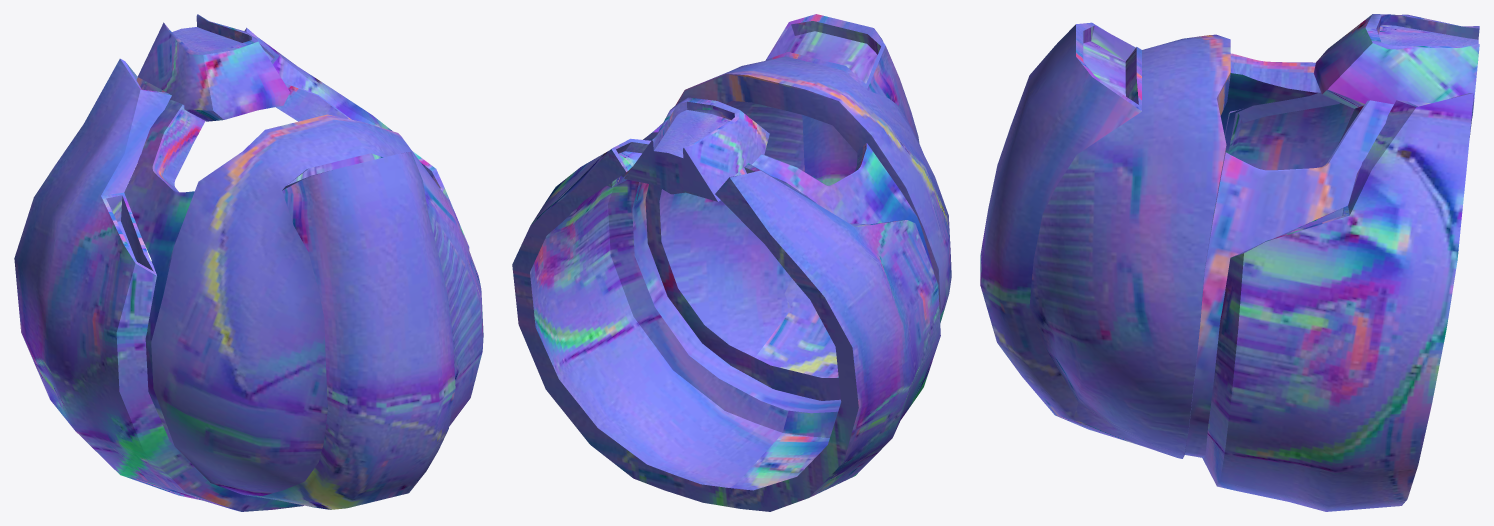
File: Headwear64.glb
3 renders of one model, left to right at view 1: azimuth 30°, elevation 25°; view 2: azimuth 150°, elevation 25°; view 3: azimuth 270°, elevation 25°, orthographic. The views are drawn at different scales.
Visible parts, largest first — view 1: Headwear64; view 2: Headwear64; view 3: Headwear64.
Part boxes in pixels (x1,y1,x2,y2): Headwear64: (14,14,483,511); Headwear64: (512,14,951,511); Headwear64: (980,14,1479,511).
Size of the model in its own units: 2.32 by 2.4 by 2.39.
Materials: 1 (1 with a texture image).
